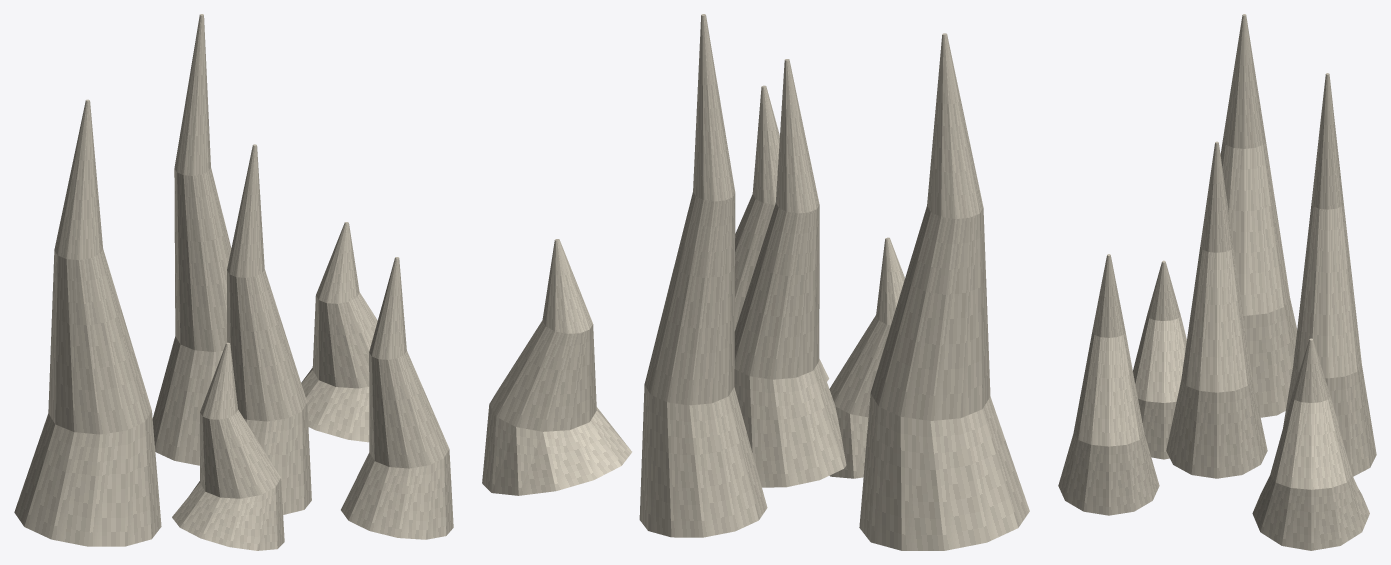
Rendered from cave-and-crystal-networks-stalagmite-2-c5d1eb64.glb.
3 renders of one model, left to right at view 1: azimuth 30°, elevation 25°; view 2: azimuth 150°, elevation 25°; view 3: azimuth 270°, elevation 25°, orthographic. The views are drawn at different scales.
Visible parts, largest first — view 1: stalagmite-2; view 2: stalagmite-2; view 3: stalagmite-2.
Boxes of the visible parts, x1=… form: stalagmite-2: x1=14, y1=14, x2=453, y2=550; stalagmite-2: x1=482, y1=14, x2=1029, y2=550; stalagmite-2: x1=1058, y1=14, x2=1376, y2=550.
Size of the model in its own units: 1.36 by 1.4 by 1.02.
1 material, 1 textured.
